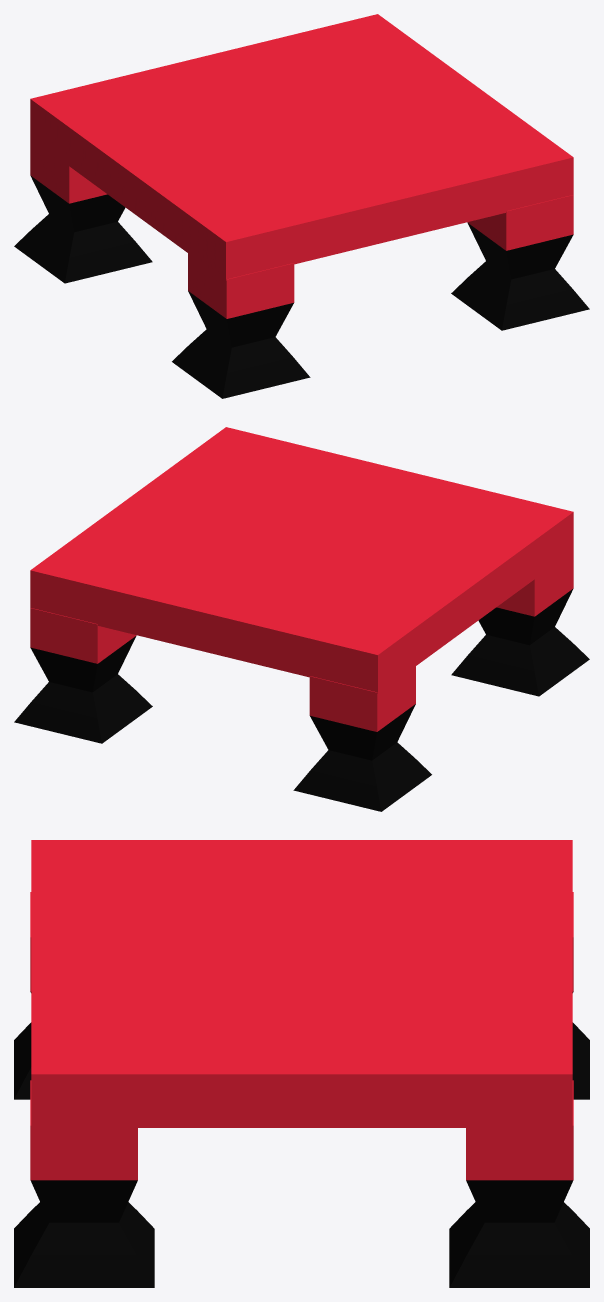
File: platform.fbx
3 renders of one model, top to bottom at view 1: azimuth 30°, elevation 25°; view 2: azimuth 150°, elevation 25°; view 3: azimuth 270°, elevation 25°, orthographic. The views are drawn at different scales.
Parts seen in each view (by area): view 1: Cube, Cube.001; view 2: Cube, Cube.001; view 3: Cube, Cube.001.
Part boxes in pixels (x1,y1,x2,y2): Cube: (30,14,573,280); Cube.001: (14,138,589,398); Cube: (30,427,573,693); Cube.001: (14,551,589,811); Cube: (31,840,572,1127); Cube.001: (14,892,589,1287).
Size of the model in its own units: 452 by 444 by 176.
